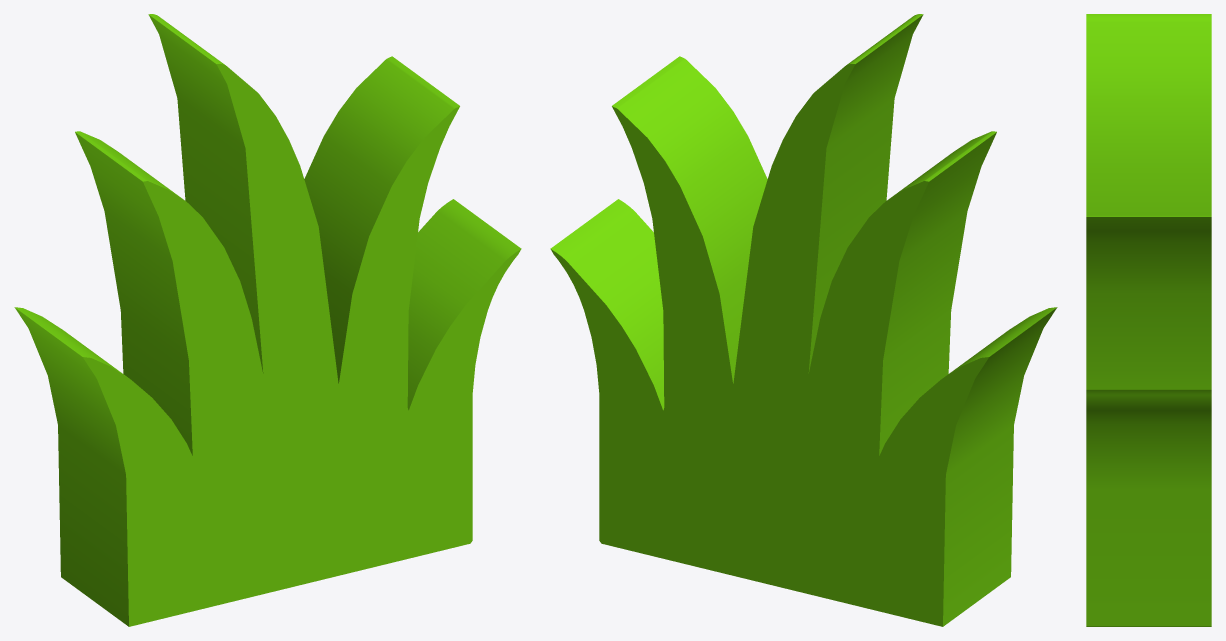
3 views of the same model, side by side, from view 1: azimuth 30°, elevation 25°; view 2: azimuth 150°, elevation 25°; view 3: azimuth 270°, elevation 25° (orthographic). The views are drawn at different scales.
Visible parts, largest first — view 1: Curve.002_Material.001_0; view 2: Curve.002_Material.001_0; view 3: Curve.002_Material.001_0.
Boxes of the visible parts, box(x1,y1,x2,y2) form: Curve.002_Material.001_0: box(14, 14, 521, 626); Curve.002_Material.001_0: box(550, 14, 1057, 626); Curve.002_Material.001_0: box(1086, 14, 1211, 626).
Bounding box in the file's own units: 0.6838 × 0.8058 × 0.1837.
